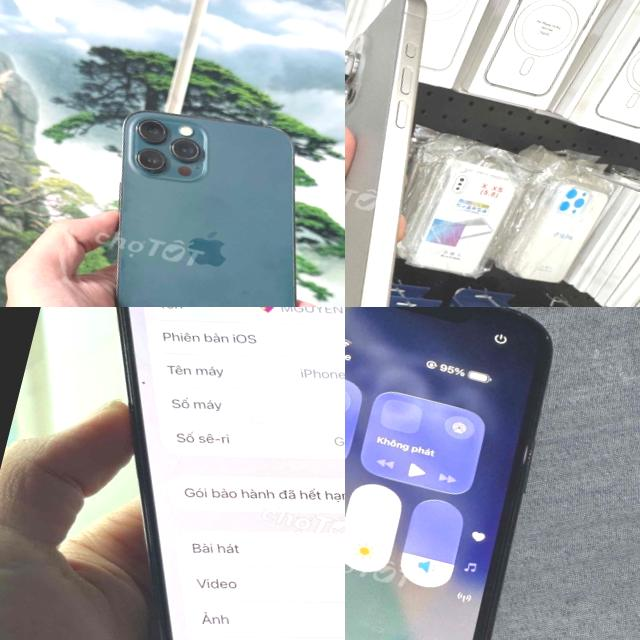gen_11: (345, 307, 571, 640)
gen_12_13: (62, 93, 345, 307)
gen_14: (0, 307, 345, 640)
gen_15: (345, 0, 504, 307)
